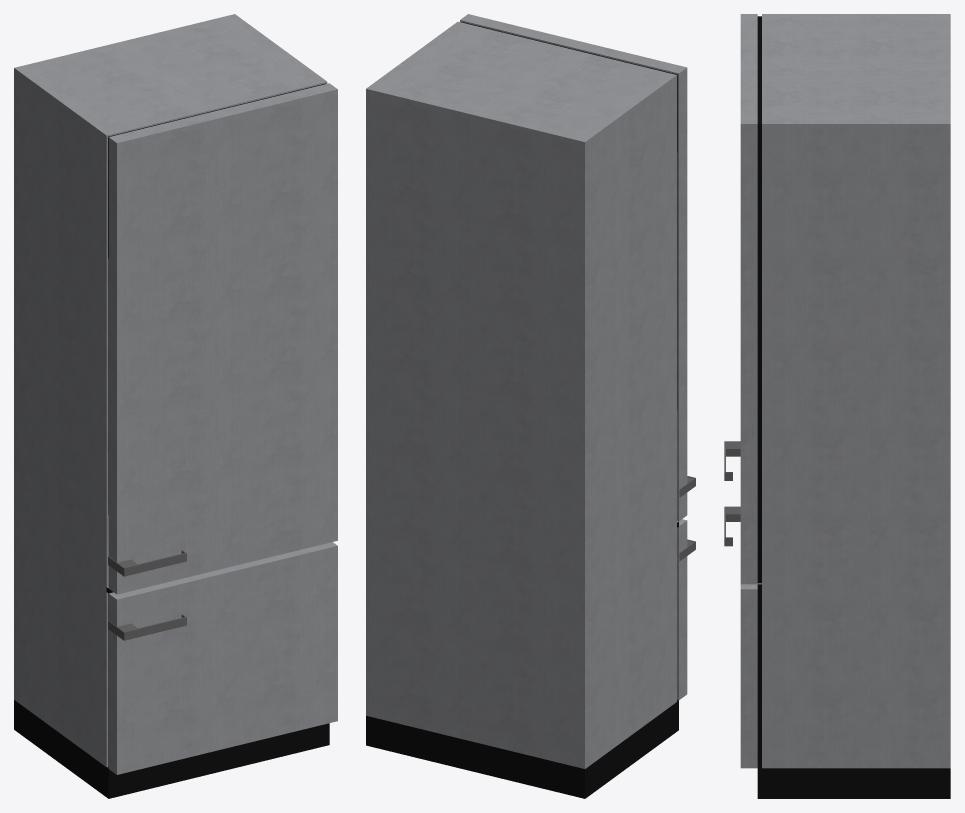
Rendered from REFRIGERATOR_30.glb.
The picture shows the model from 3 angles, left to right: view 1: azimuth 30°, elevation 25°; view 2: azimuth 150°, elevation 25°; view 3: azimuth 270°, elevation 25°; orthographic projection. The views are drawn at different scales.
Parts seen in each view (by area): view 1: Refrigerator_30__0014; view 2: Refrigerator_30__0014; view 3: Refrigerator_30__0014.
Boxes of the visible parts, x1,y1,x2,y2 form: Refrigerator_30__0014: (14,14,337,798); Refrigerator_30__0014: (366,14,695,798); Refrigerator_30__0014: (724,14,950,798).
Size of the model in its own units: 759 by 2166 by 658.
3 materials, 1 textured.
